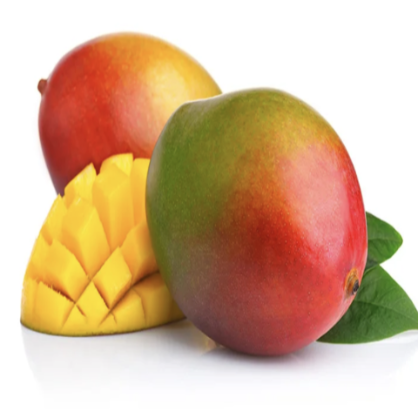mango: (135, 81, 385, 363), (17, 21, 251, 245)
